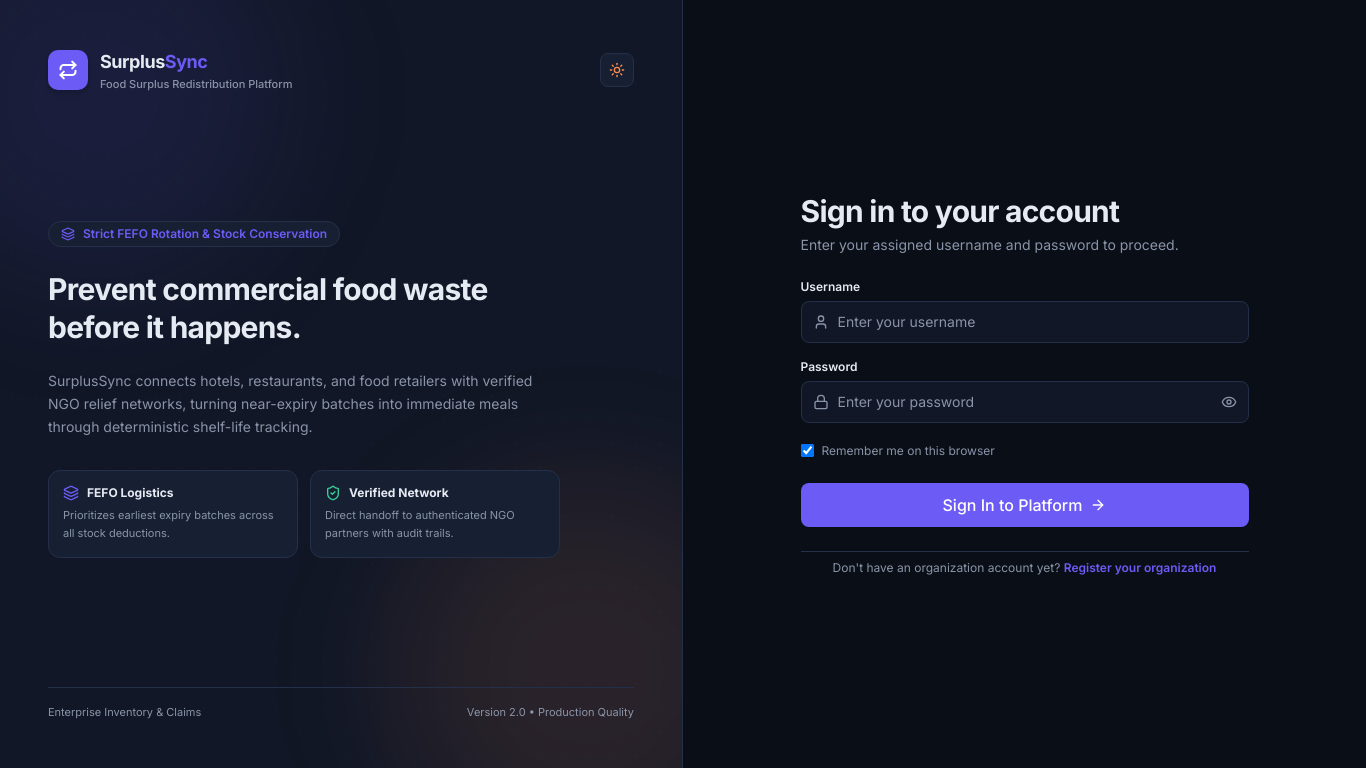
Test: LoginForm Component › displays a clear inline error for wrong credentials (401)
Type "wrong_user" into the field labelled "Username". click: (1024, 322)
box: [800, 300, 1248, 342]
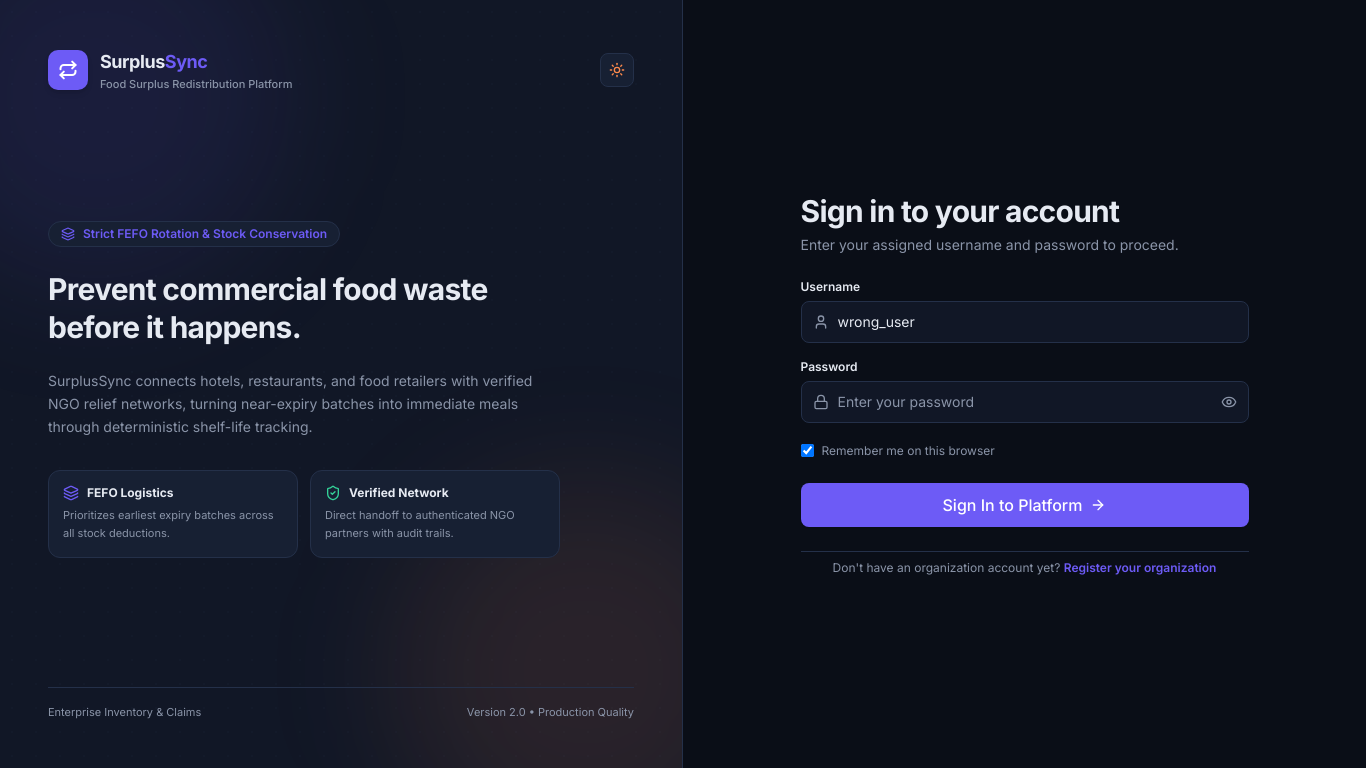
Type "bad_password" into the password field with placeholder "Enter your password". click: (1024, 402)
box: [800, 380, 1248, 422]
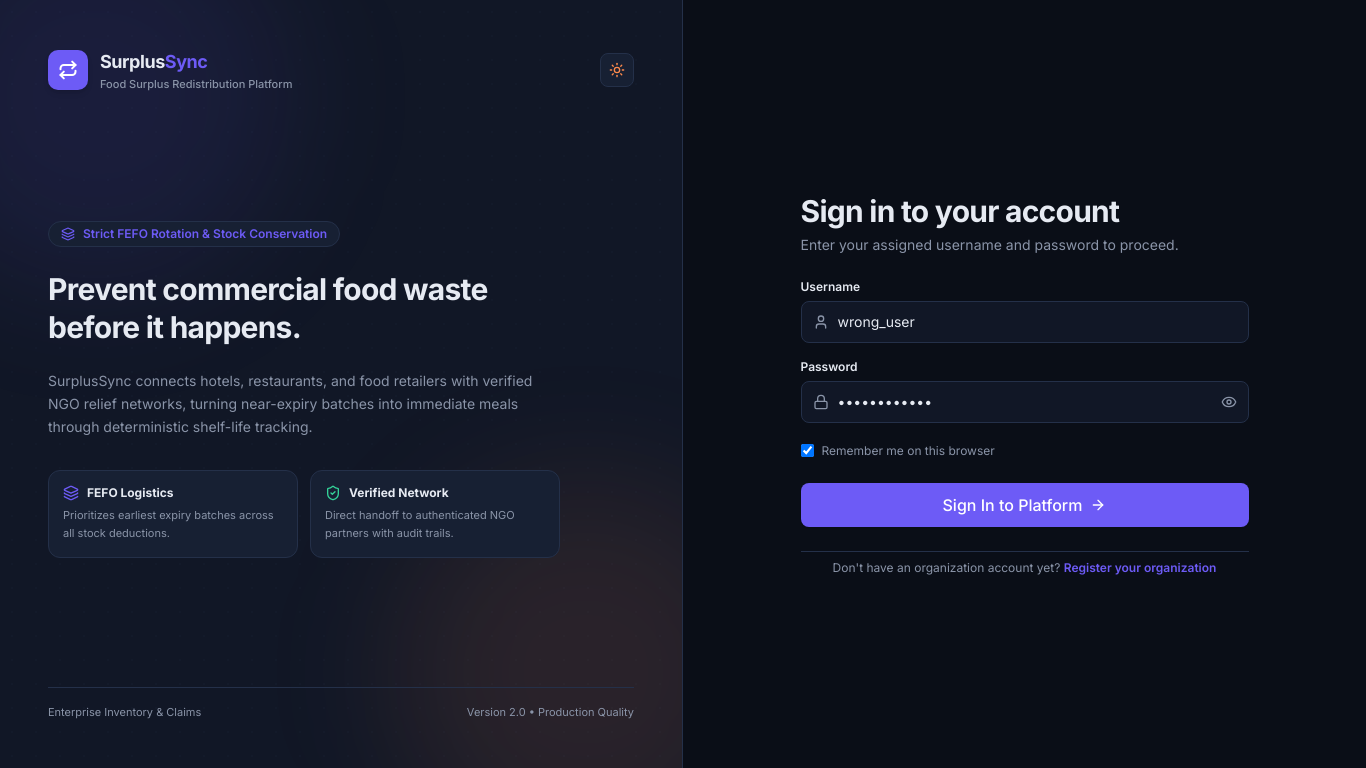
Click the button "Sign In to Platform". click: click(1024, 504)
box: [800, 482, 1248, 526]
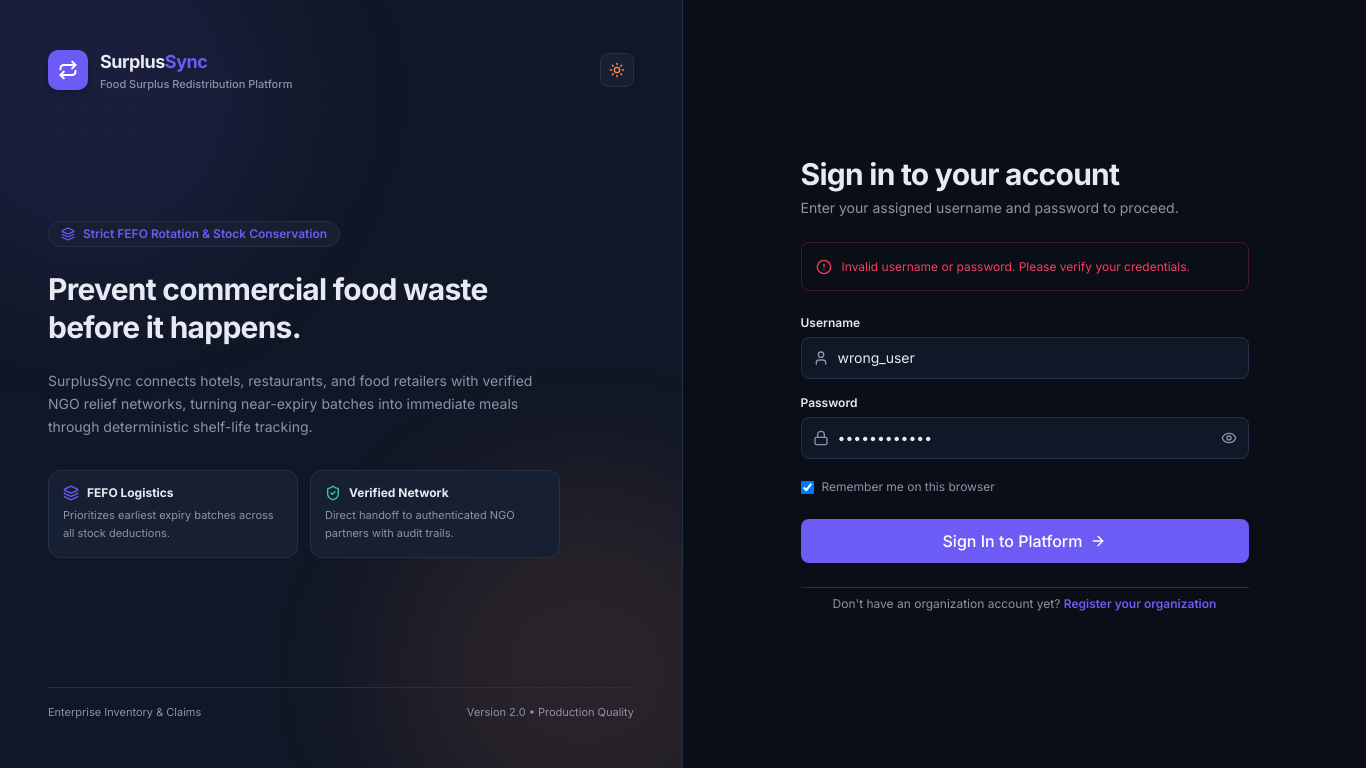
Check: the message "Invalid username or password. Please verify your credentials." is shown, box [800, 242, 1248, 291]
Check: the text "Invalid username or password" is shown, box [842, 259, 1190, 274]
